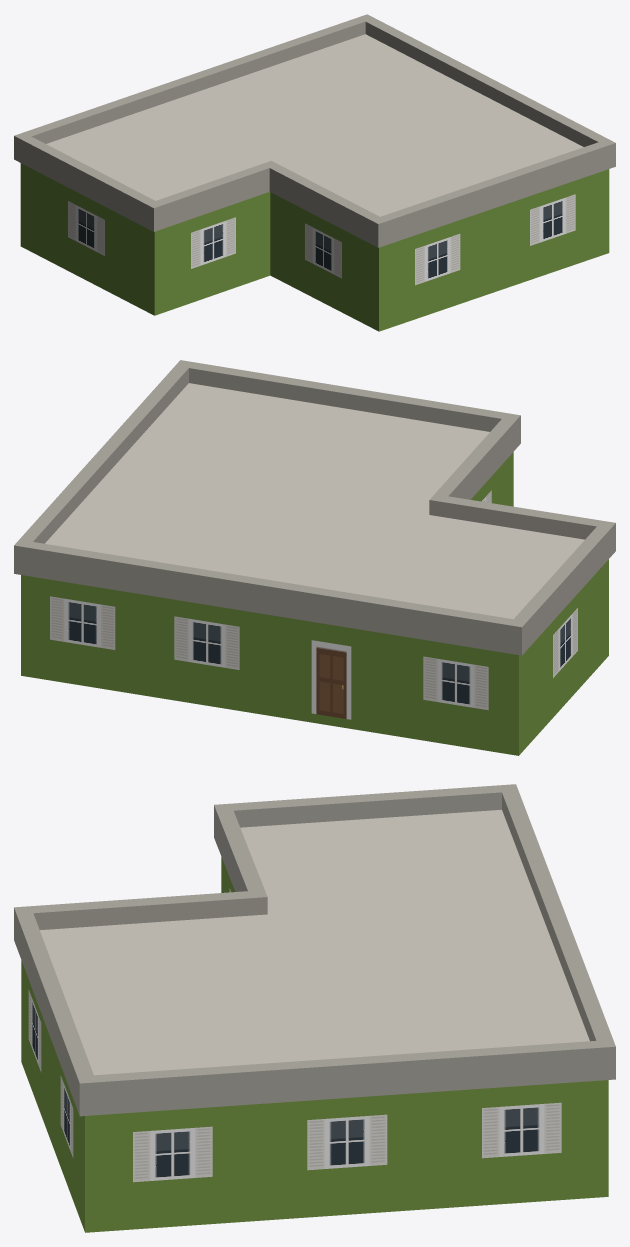
The model's file is msb_oranjestad_m9_m3.glb.
3 views of the same model, one above another, from view 1: azimuth 30°, elevation 25°; view 2: azimuth 150°, elevation 25°; view 3: azimuth 270°, elevation 25° (orthographic). The views are drawn at different scales.
Parts seen in each view (by area): view 1: msb_oranjestad_m9_m3_lod0; view 2: msb_oranjestad_m9_m3_lod0; view 3: msb_oranjestad_m9_m3_lod0.
Part boxes in pixels (x1,y1,x2,y2): msb_oranjestad_m9_m3_lod0: [14, 14, 615, 331]; msb_oranjestad_m9_m3_lod0: [14, 360, 615, 755]; msb_oranjestad_m9_m3_lod0: [14, 784, 615, 1232].
Size of what is drawn, in the model's own units: 16.64 by 3.95 by 14.14.
3 materials, 1 textured.
